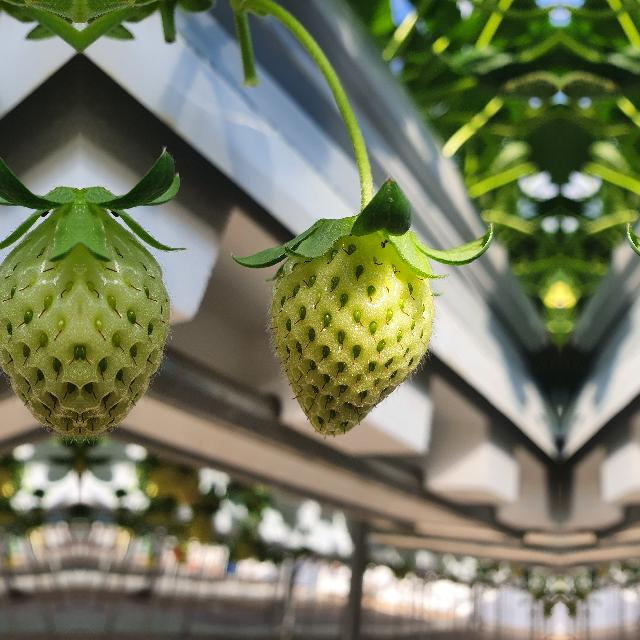Health_25: (270, 232, 434, 436)
